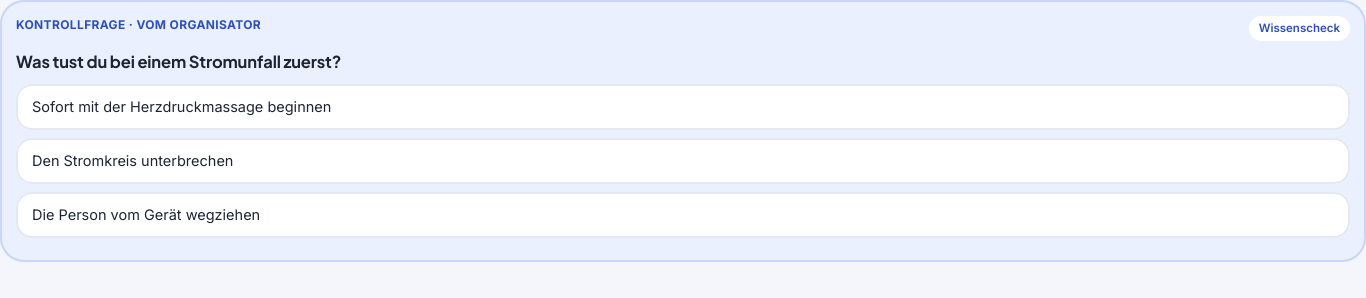
Scenario: Kontrollfrage (Teilnehmer) › zeigt nach dem Antworten das Feedback mit Erklärung (13h)
Later steps or results of the test are not shown.
Expected: the heading "Was tust du bei einem Stromunfall zuerst?" is shown, [16,51,341,72]
Click the button "Den Stromkreis unterbrechen".
click(133, 160)  # box [16,138,1350,184]
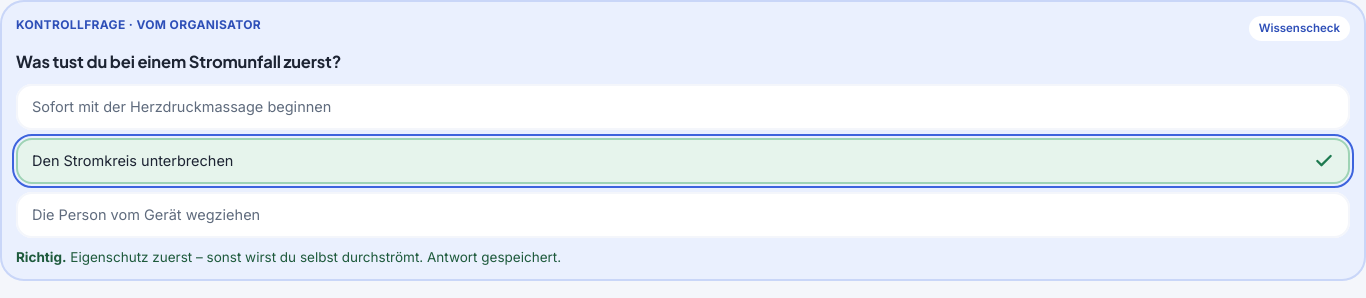
Result: the text "Eigenschutz zuerst" shows "Richtig. Eigenschutz zuerst – sonst wirst du selbst durchströmt. Antwort gespeichert." at [16,248,561,264]
